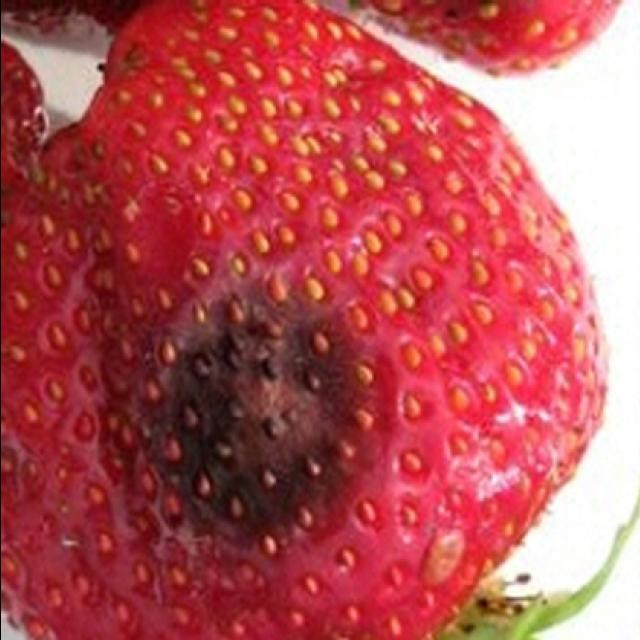Anthracnose Fruit Rot: (175, 298, 333, 529)
